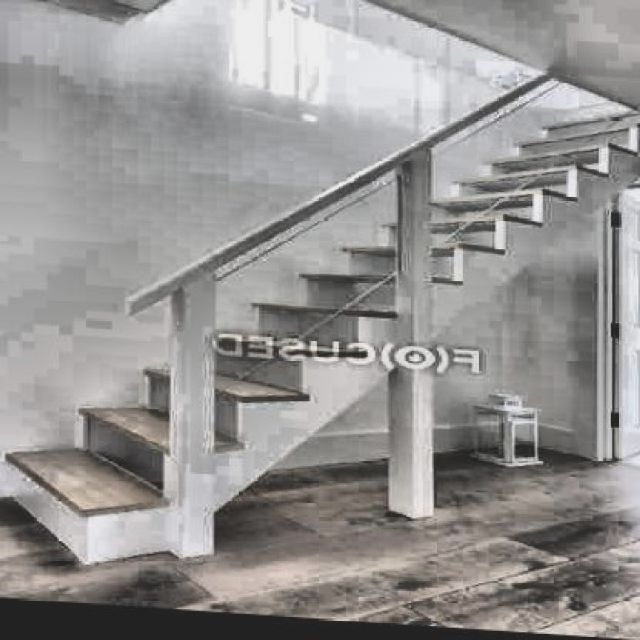stair: (2, 98, 586, 508)
